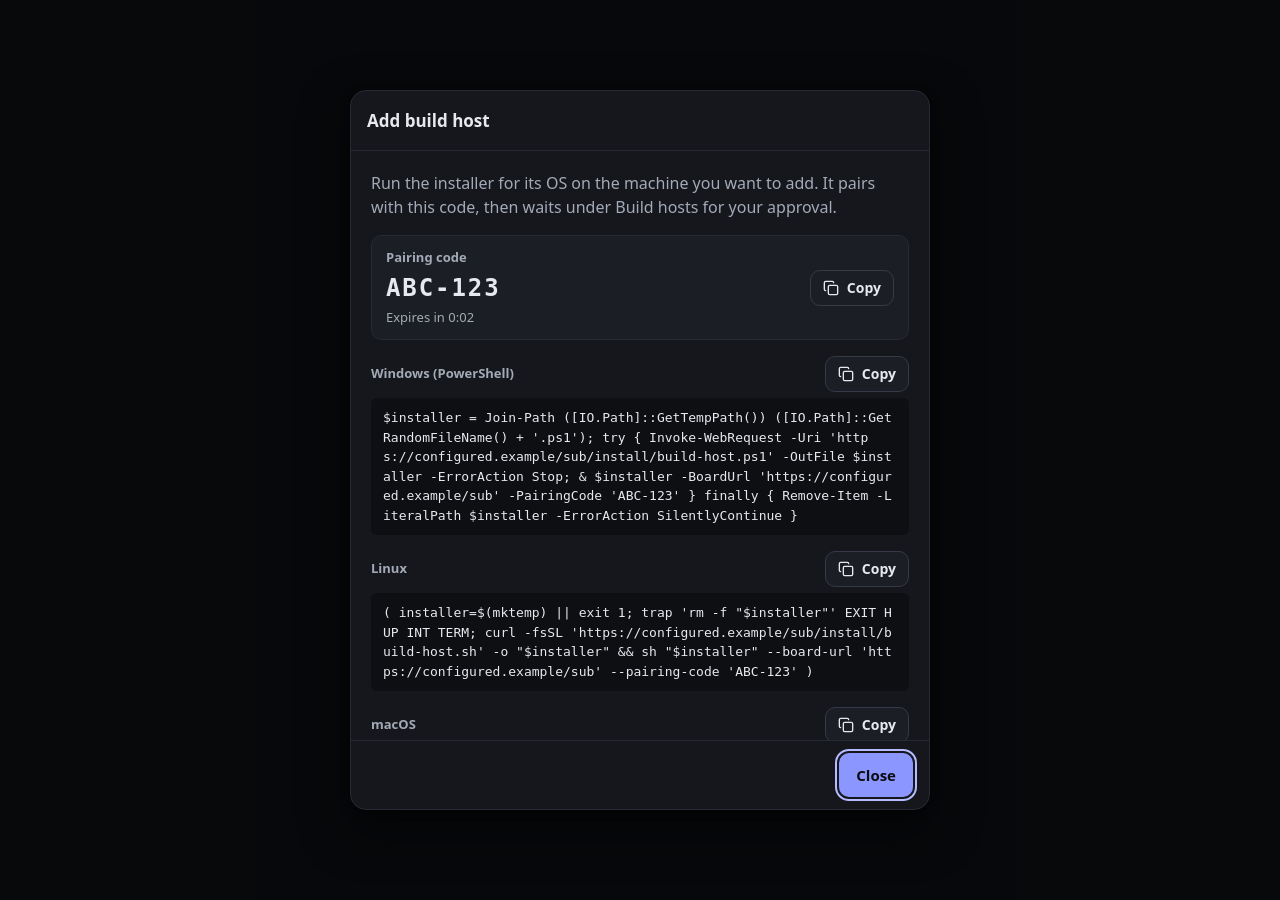
Test case: shows configured commands, copies through plain HTTP fallback, expires and replaces explicitly
Later steps or results of the test are not shown.
expect the text "https://configured.example/sub/install/" is shown: met, box [383, 410, 892, 522]
Click the button with aria-label "Copy Linux command": (867, 569) [825, 551, 909, 587]
Wait 2000 ms
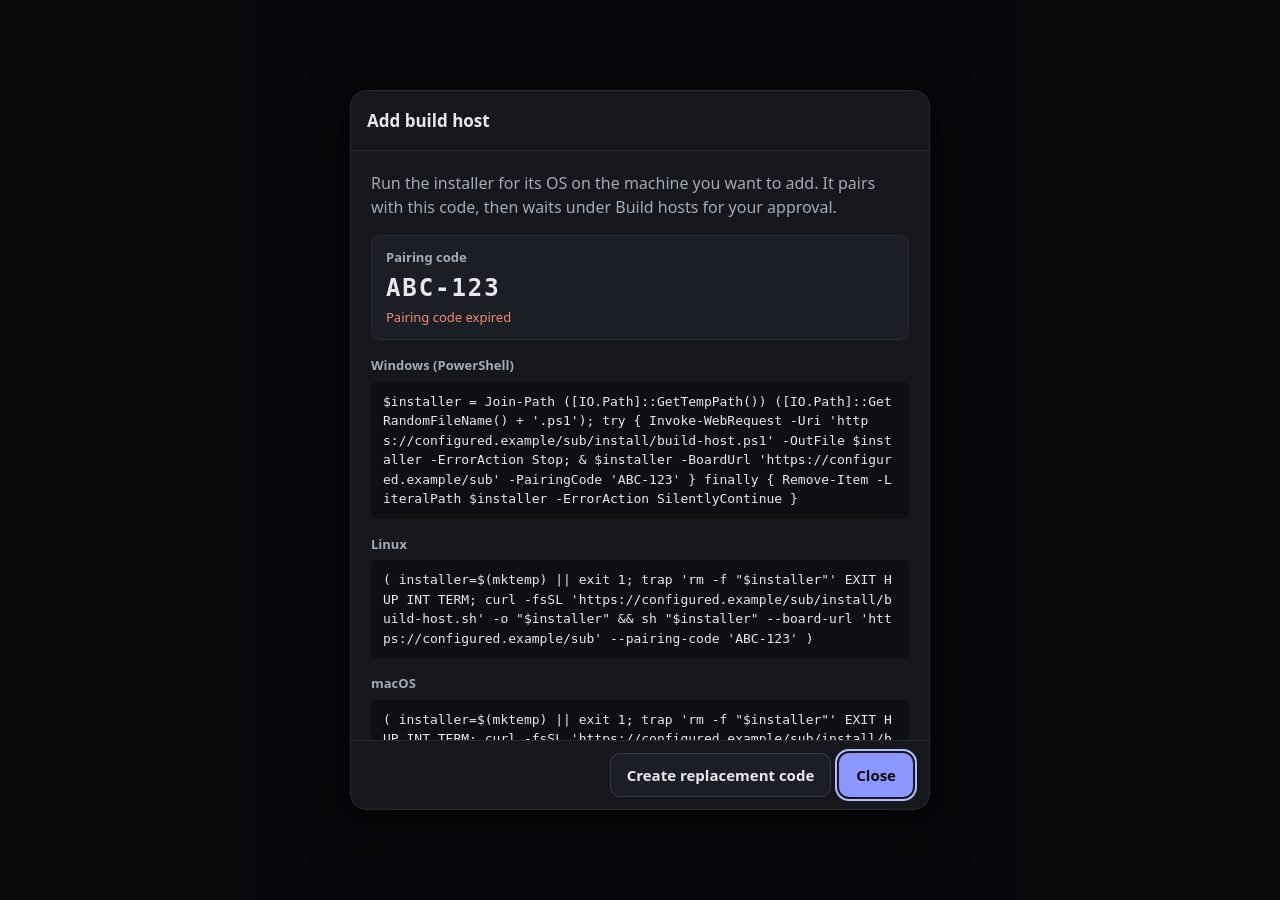
expect the text "Pairing code expired" is shown: met, box [386, 308, 511, 327]
